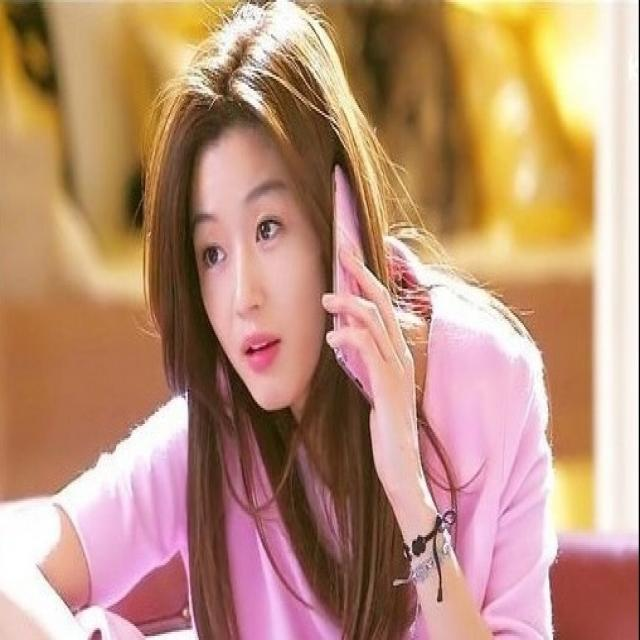phone: (251, 123, 404, 406)
